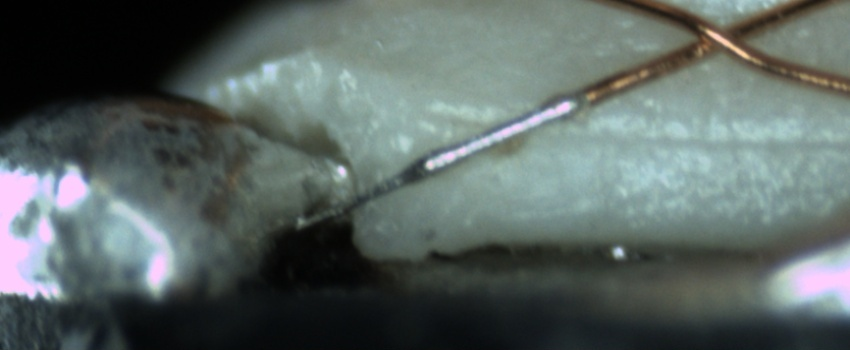CL: (672, 5, 772, 66)
DL: (454, 109, 850, 173)
TS: (293, 92, 583, 233)
TTCW: (298, 66, 639, 227)
